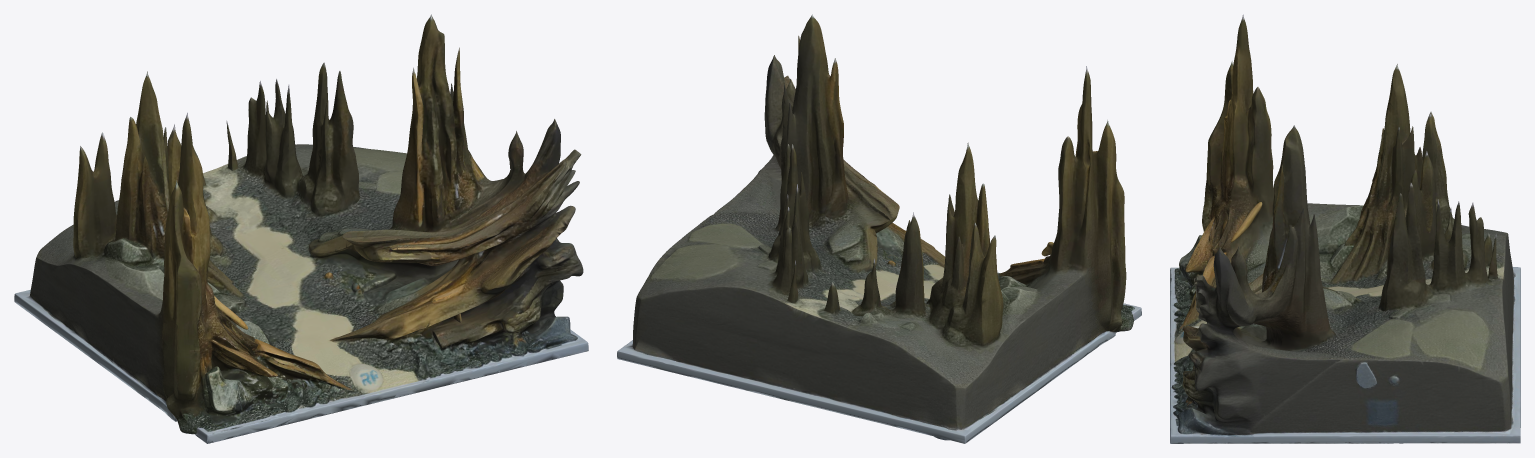
File: Hemver6-v3.glb
The picture shows the model from 3 angles, left to right: view 1: azimuth 30°, elevation 25°; view 2: azimuth 150°, elevation 25°; view 3: azimuth 270°, elevation 25°; orthographic projection. The views are drawn at different scales.
Parts seen in each view (by area): view 1: tripo_node_f9c9c16b-726a-4af3-9bc1-a6a85080a7e7; view 2: tripo_node_f9c9c16b-726a-4af3-9bc1-a6a85080a7e7; view 3: tripo_node_f9c9c16b-726a-4af3-9bc1-a6a85080a7e7.
Boxes of the visible parts, box(x1,y1,x2,y2) form: tripo_node_f9c9c16b-726a-4af3-9bc1-a6a85080a7e7: box(14, 14, 588, 443); tripo_node_f9c9c16b-726a-4af3-9bc1-a6a85080a7e7: box(617, 14, 1141, 443); tripo_node_f9c9c16b-726a-4af3-9bc1-a6a85080a7e7: box(1170, 14, 1520, 443).
Size of the model in its own units: 0.9997 by 0.7457 by 0.8381.
Materials: 1 (1 with a texture image).
